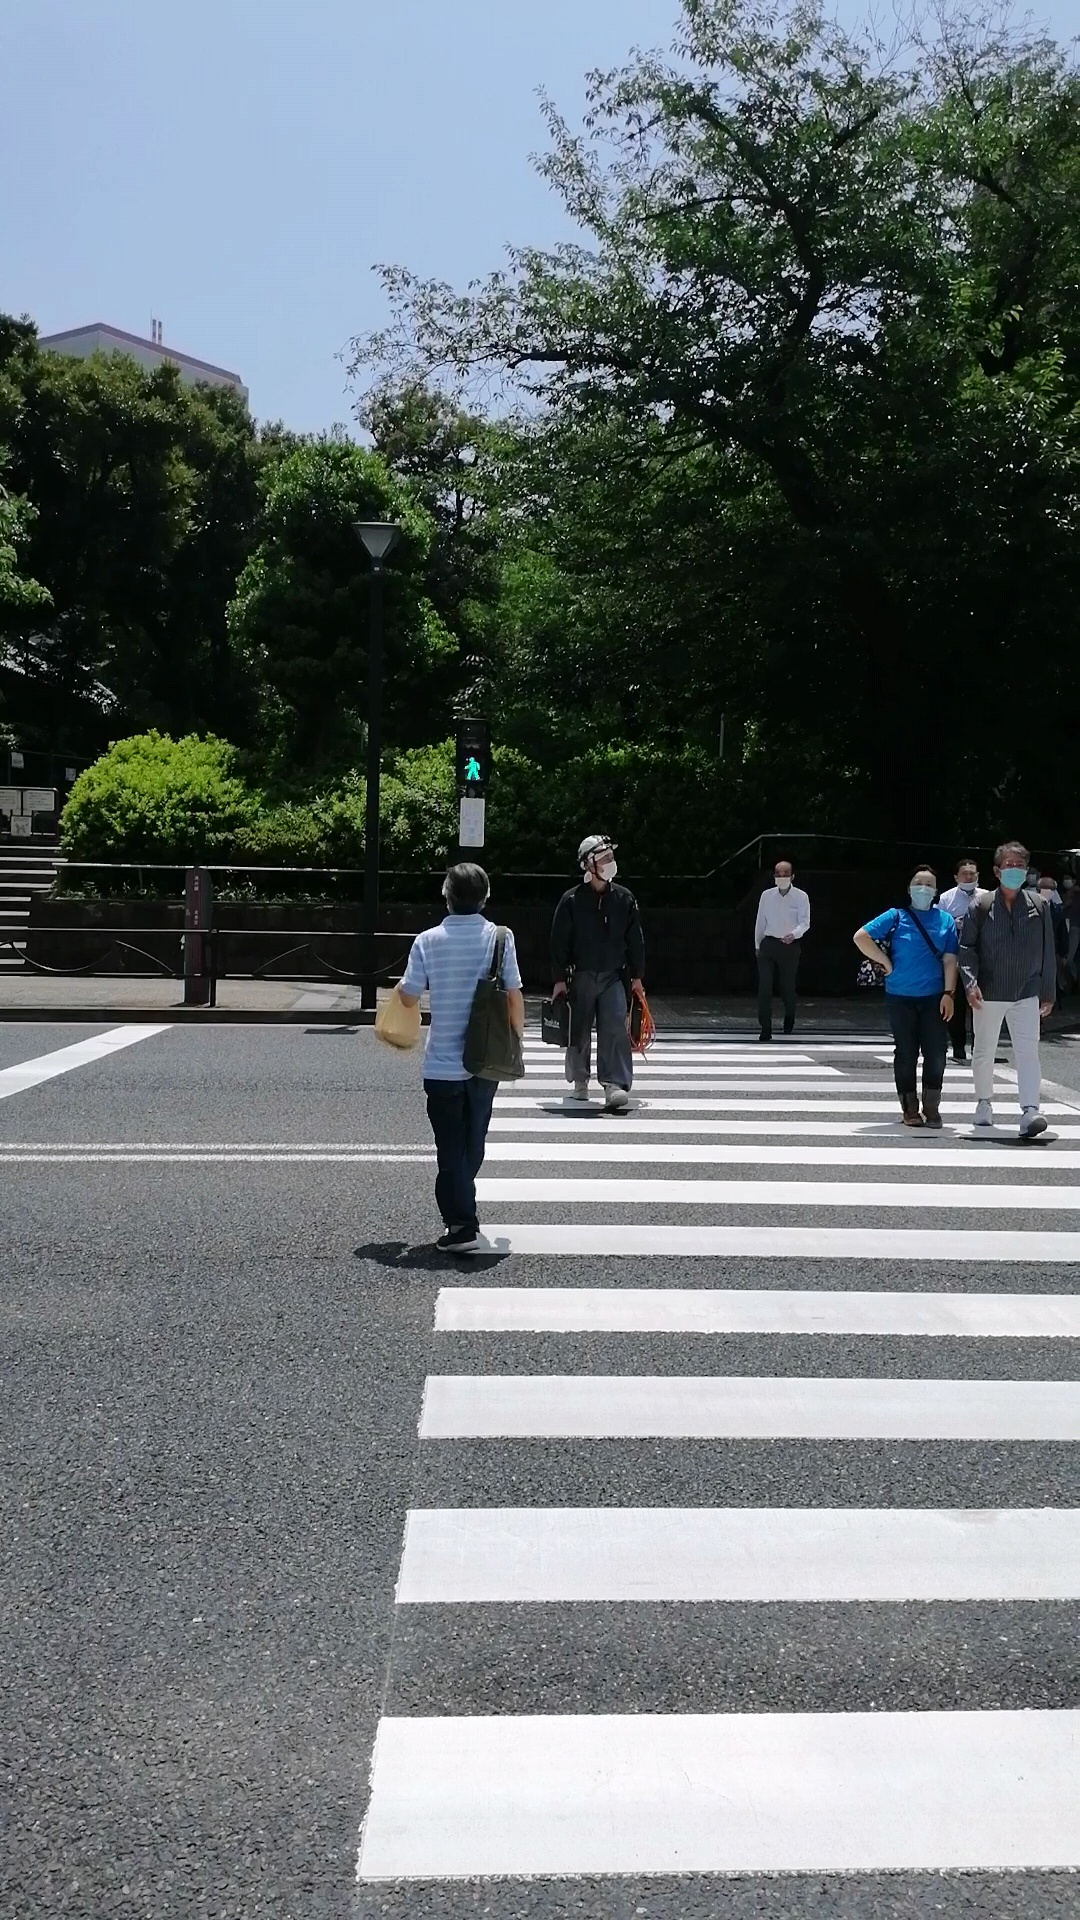green: (456, 720, 491, 787)
